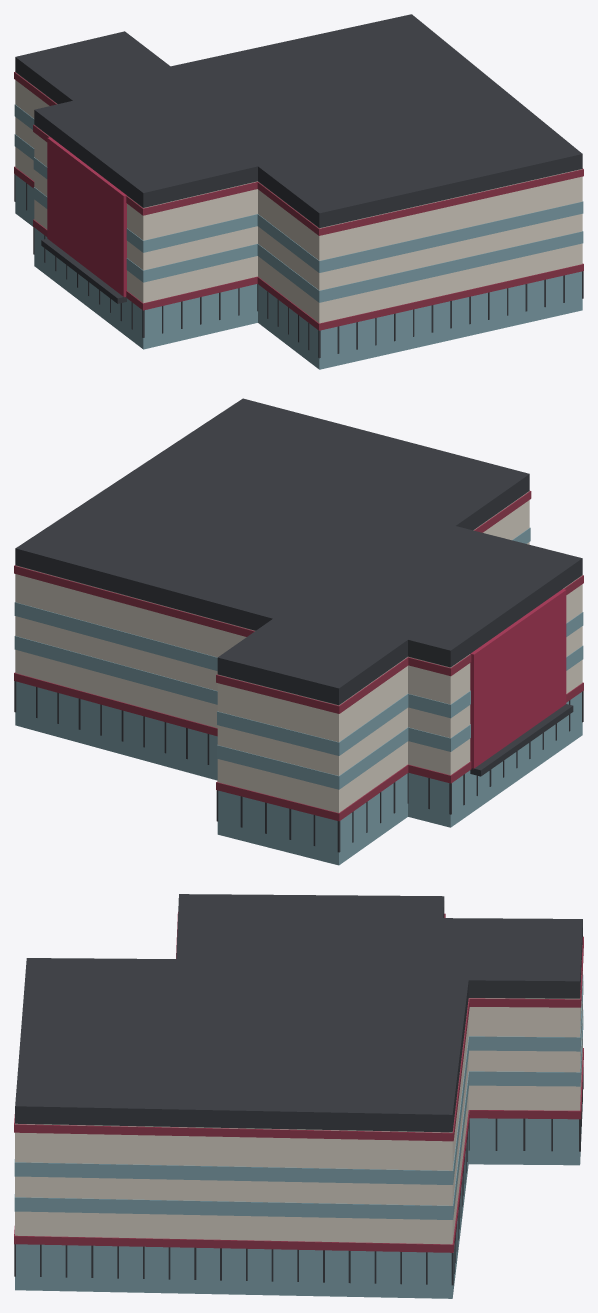
File: showtime-wenxin.glb
The picture shows the model from 3 angles, top to bottom: view 1: azimuth 30°, elevation 25°; view 2: azimuth 150°, elevation 25°; view 3: azimuth 270°, elevation 25°; orthographic projection. The views are drawn at different scales.
Visible parts, largest first — view 1: showtime-wenxin; view 2: showtime-wenxin; view 3: showtime-wenxin.
Boxes of the visible parts, <box> form: showtime-wenxin: <box>14,14,583,369</box>; showtime-wenxin: <box>14,398,583,865</box>; showtime-wenxin: <box>14,894,583,1298</box>.
Size of the model in its own units: 97.07 by 36.8 by 103.
